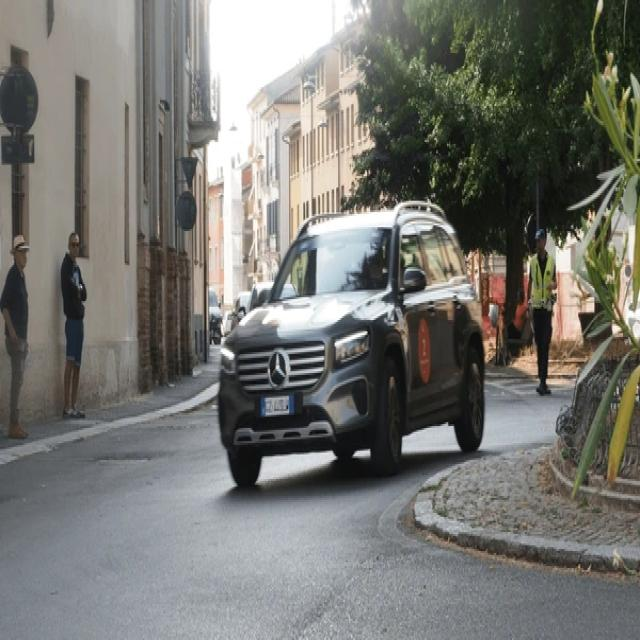mercedes: (267, 345, 288, 393)
